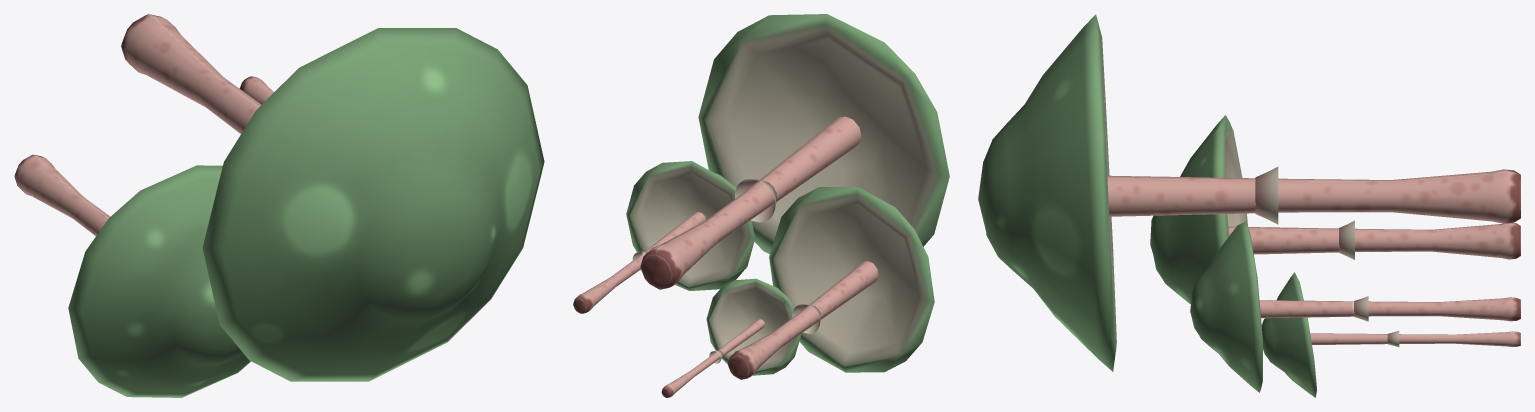
File: mushroom5.glb
The picture shows the model from 3 angles, left to right: view 1: azimuth 30°, elevation 25°; view 2: azimuth 150°, elevation 25°; view 3: azimuth 270°, elevation 25°; orthographic projection. The views are drawn at different scales.
Parts seen in each view (by area): view 1: 7.001_Cube.005; view 2: 7.001_Cube.005; view 3: 7.001_Cube.005.
Boxes of the visible parts, <box> form: 7.001_Cube.005: <box>14,14,544,397</box>; 7.001_Cube.005: <box>573,14,949,397</box>; 7.001_Cube.005: <box>978,14,1520,397</box>.
Size of the model in its own units: 1.13 by 1.06 by 1.41.
1 material, 1 textured.
